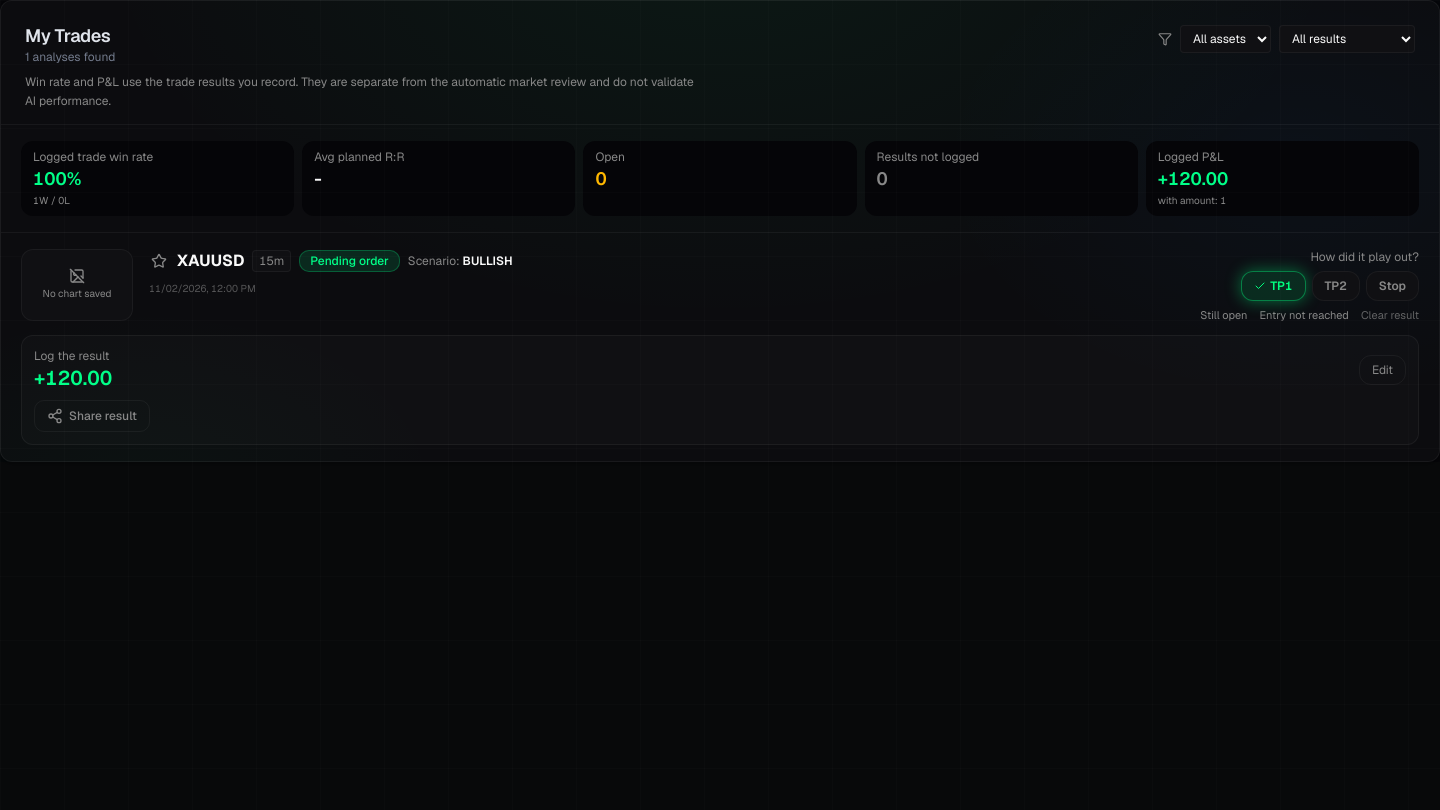
Test case: My Trades: compartilhar resultado › abre o modal com os 3 formatos e o "Hide amount" desligado sem retorno registrado
Click the button "Share result" at coordinates (92, 416), box [34,400,150,432]
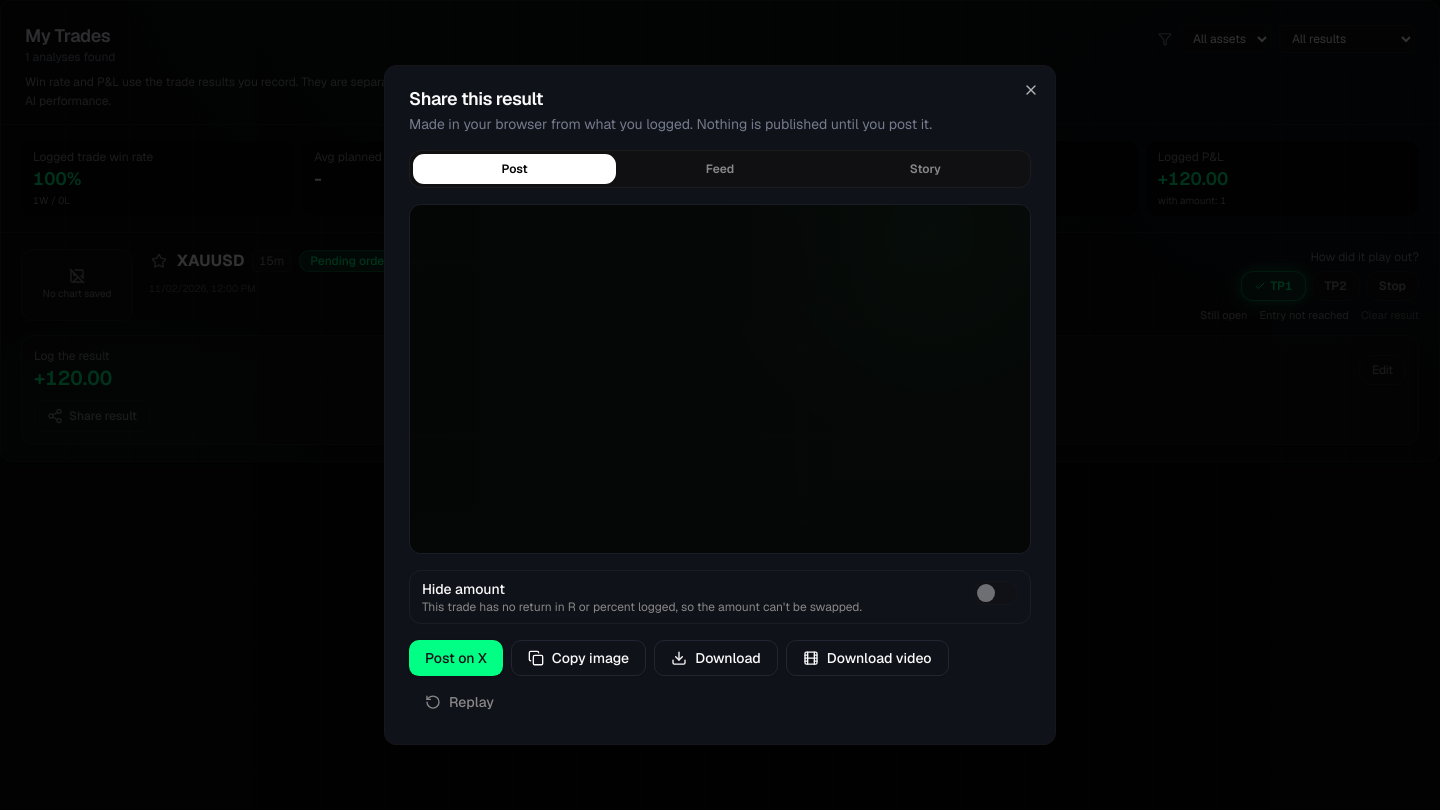
Expected: the heading "Share this result" is shown, [409,87,543,110]
Expected: the button "Post" is shown, [414,155,615,183]
Expected: the button "Feed" is shown, [619,155,821,183]
